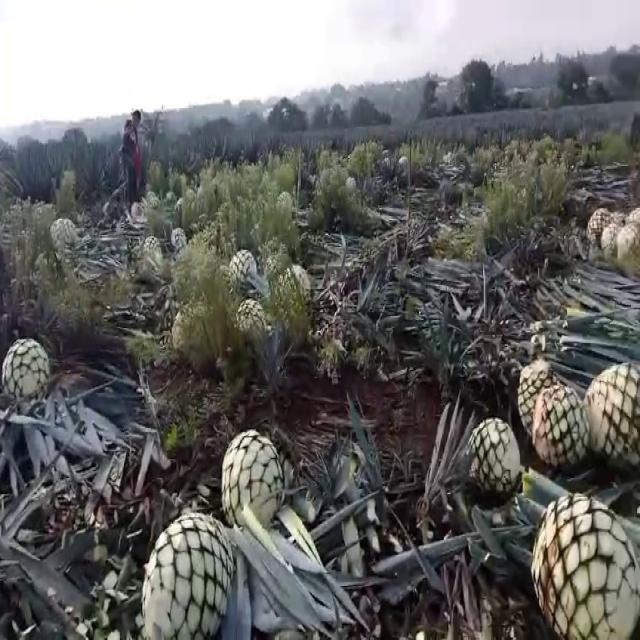agave: (531, 487, 639, 640), (141, 510, 230, 640), (220, 424, 283, 534), (585, 359, 640, 477), (460, 416, 524, 506), (532, 386, 590, 474), (516, 356, 568, 444), (1, 330, 53, 409), (232, 294, 263, 350), (227, 247, 256, 300), (616, 220, 640, 270), (586, 206, 608, 247), (602, 220, 623, 258), (141, 232, 163, 268), (169, 224, 187, 253)
